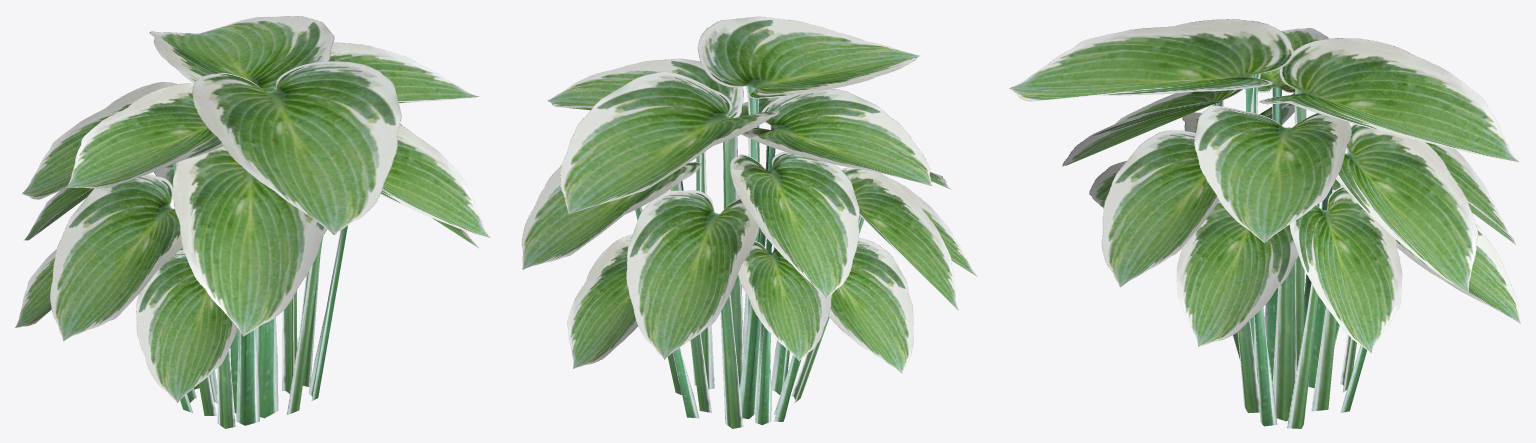
The model's file is plant_small_wg_05I.fbx.
3 renders of one model, left to right at view 1: azimuth 30°, elevation 25°; view 2: azimuth 150°, elevation 25°; view 3: azimuth 270°, elevation 25°, orthographic. The views are drawn at different scales.
Parts seen in each view (by area): view 1: plant_small_wg_05I; view 2: plant_small_wg_05I; view 3: plant_small_wg_05I.
Boxes of the visible parts, x1=… form: plant_small_wg_05I: x1=15, y1=16, x2=489, y2=428; plant_small_wg_05I: x1=521, y1=16, x2=977, y2=428; plant_small_wg_05I: x1=1009, y1=19, x2=1520, y2=428.
Size of the model in its own units: 51.3 by 39.78 by 52.89.
